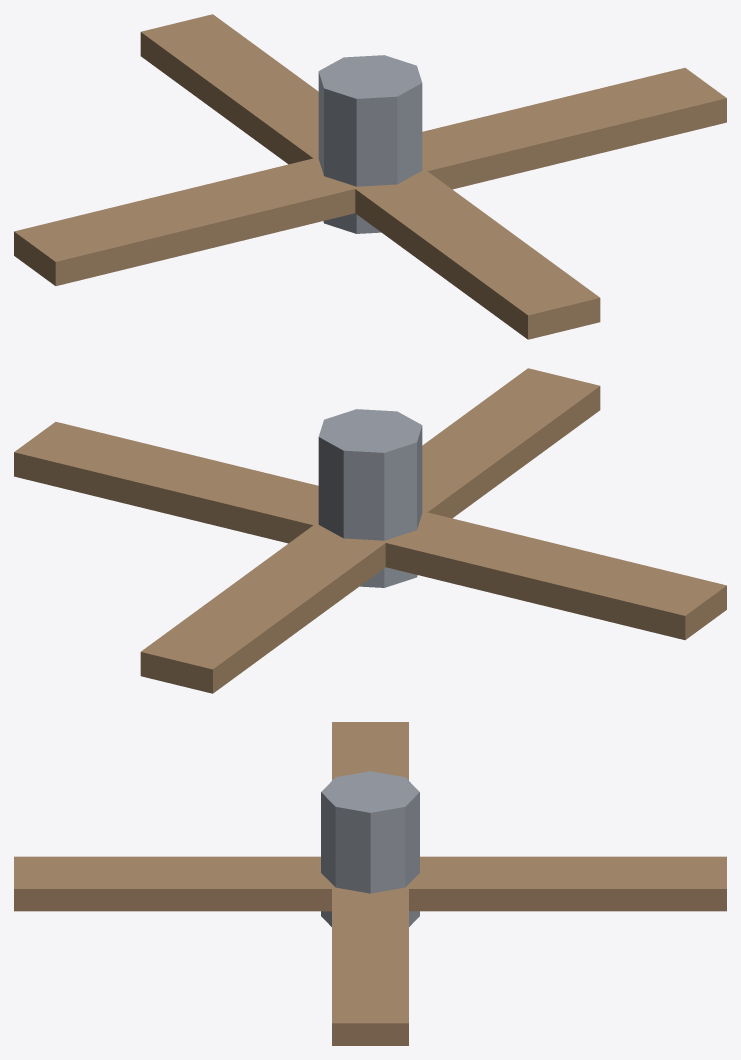
3 renders of one model, top to bottom at view 1: azimuth 30°, elevation 25°; view 2: azimuth 150°, elevation 25°; view 3: azimuth 270°, elevation 25°, orthographic. The views are drawn at different scales.
Parts seen in each view (by area): view 1: Blade.3, Blade.1, Blade.2, Blade.4, Hub; view 2: Blade.3, Blade.1, Blade.4, Blade.2, Hub; view 3: Blade.2, Blade.4, Blade.1, Hub, Blade.3.
Part boxes in pixels (x1,y1,x2,y2): Blade.3: (14,157,355,285); Blade.1: (417,68,726,189); Blade.2: (349,171,600,339); Blade.4: (140,14,318,164); Hub: (318,55,422,233); Blade.3: (376,511,726,639); Blade.1: (14,422,323,543); Blade.4: (140,525,388,693); Blade.2: (422,368,600,518); Hub: (318,409,422,587); Blade.2: (14,856,342,911); Blade.4: (398,856,726,911); Blade.1: (332,889,408,1045); Hub: (321,771,419,926); Blade.3: (332,722,408,780).
Size of the model in its own units: 1.3 by 0.25 by 1.3.
